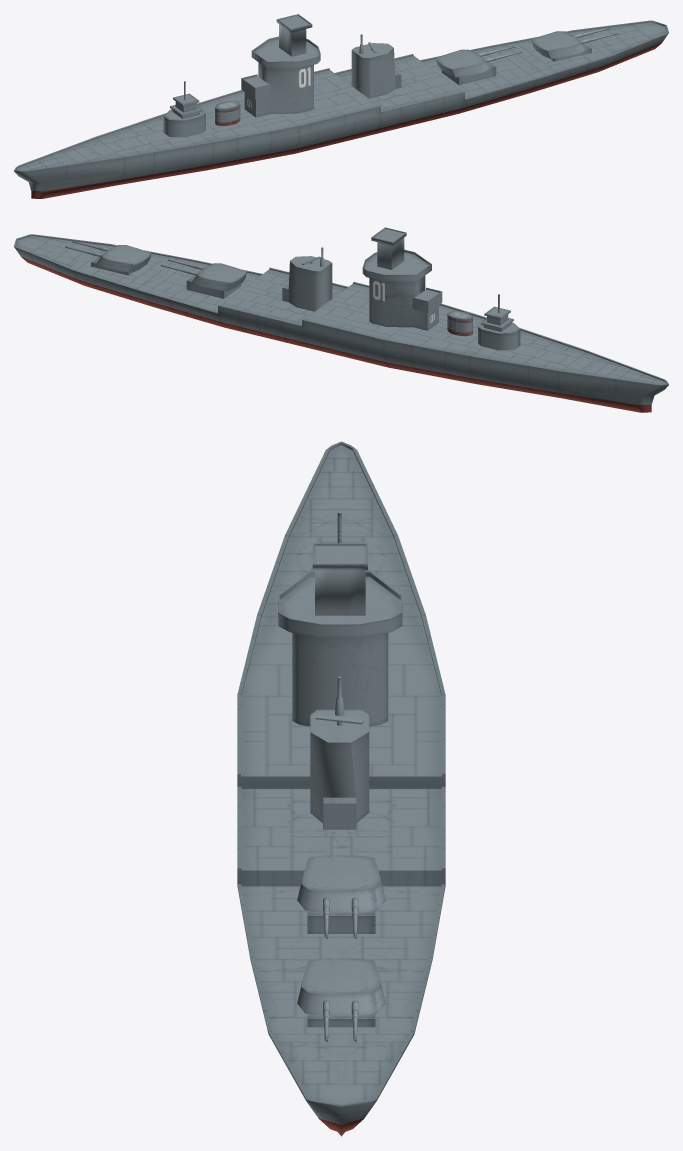
The model's file is destroyer model.fbx.
3 renders of one model, top to bottom at view 1: azimuth 30°, elevation 25°; view 2: azimuth 150°, elevation 25°; view 3: azimuth 270°, elevation 25°, orthographic. The views are drawn at different scales.
Visible parts, largest first — view 1: destroyer, cannon base, cannon base.001; view 2: destroyer, cannon base, cannon base.001; view 3: destroyer, cannon base.001, cannon base.
Part boxes in pixels (left/top/right/bottom): destroyer: left=14, top=14, right=668, bottom=198; cannon base: left=436, top=49, right=491, bottom=77; cannon base.001: left=531, top=31, right=586, bottom=59; destroyer: left=14, top=227, right=668, bottom=412; cannon base: left=191, top=263, right=246, bottom=291; cannon base.001: left=96, top=245, right=151, bottom=272; destroyer: left=237, top=441, right=445, bottom=1136; cannon base.001: left=297, top=958, right=385, bottom=1015; cannon base: left=297, top=855, right=385, bottom=912.
Bounding box in the file's own units: 419 × 69.27 × 57.88.
